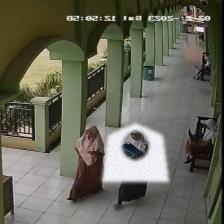Mukena: (101, 123, 169, 181)
